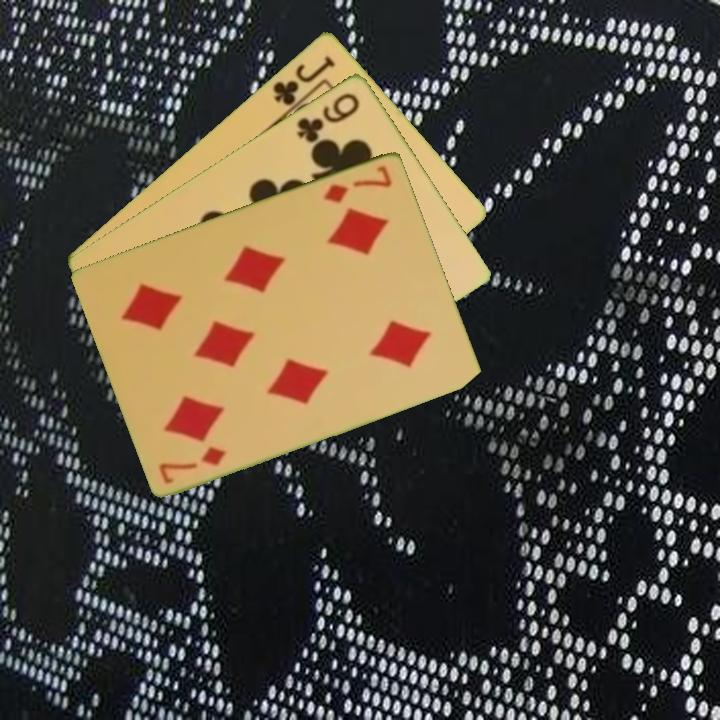7d: (320, 161, 396, 206), (155, 442, 229, 486)
9c: (293, 88, 363, 145)
Jc: (269, 51, 339, 109)
